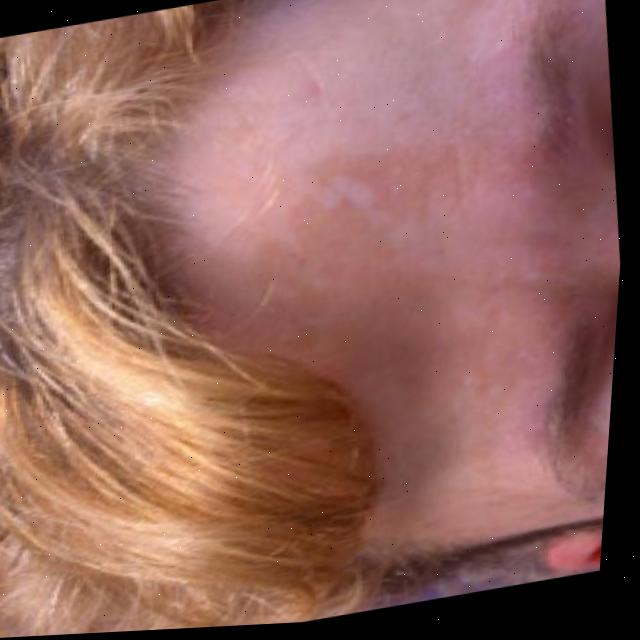Melasma: (312, 153, 438, 312)
